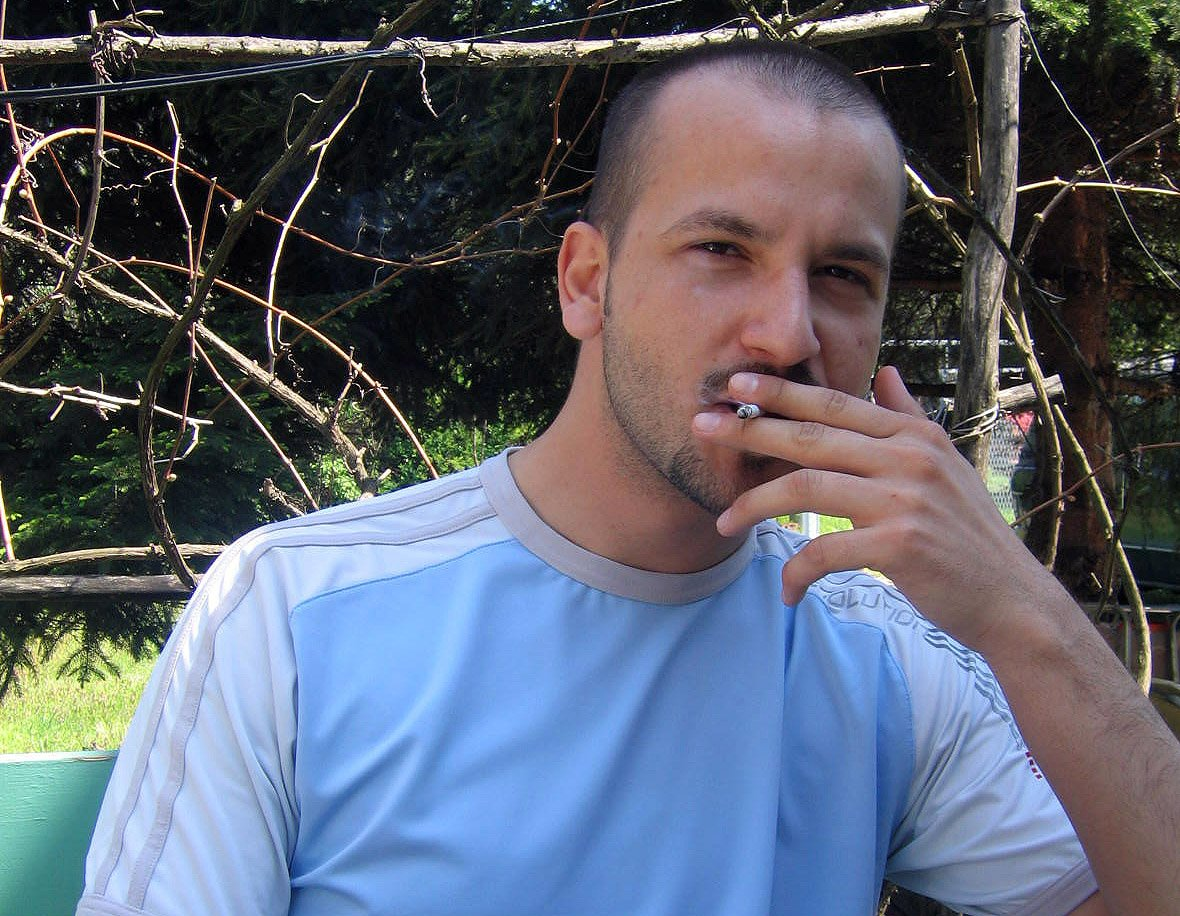cigarette: (729, 397, 764, 424)
